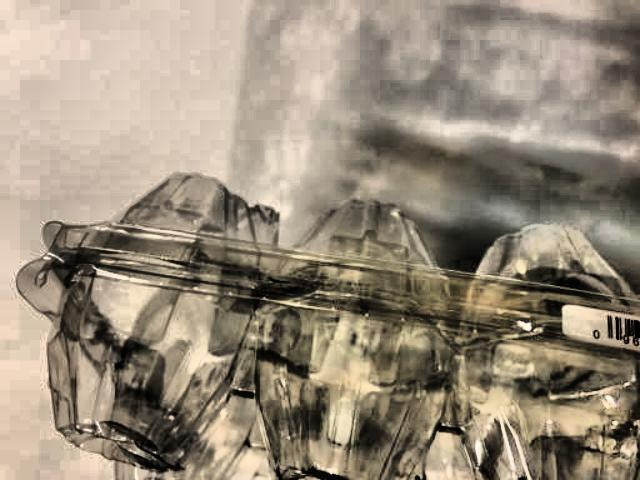Plastic: (0, 164, 640, 480)
